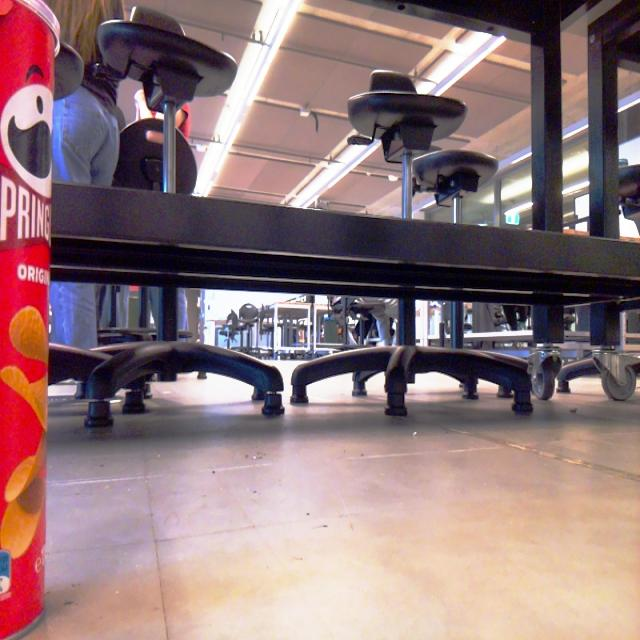redpringles: (0, 0, 108, 640)
